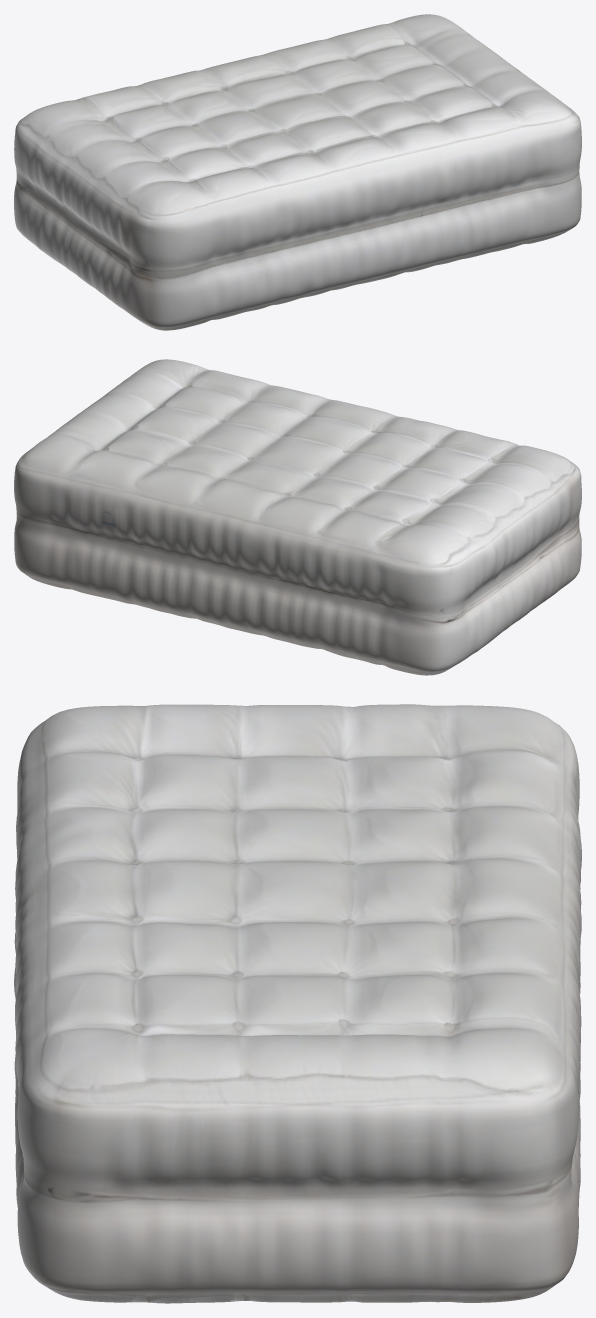
The model's file is mattress.glb.
3 renders of one model, top to bottom at view 1: azimuth 30°, elevation 25°; view 2: azimuth 150°, elevation 25°; view 3: azimuth 270°, elevation 25°, orthographic. The views are drawn at different scales.
Size of the model in its own units: 2 by 0.5861 by 1.2.
Materials: 1 (1 with a texture image).
